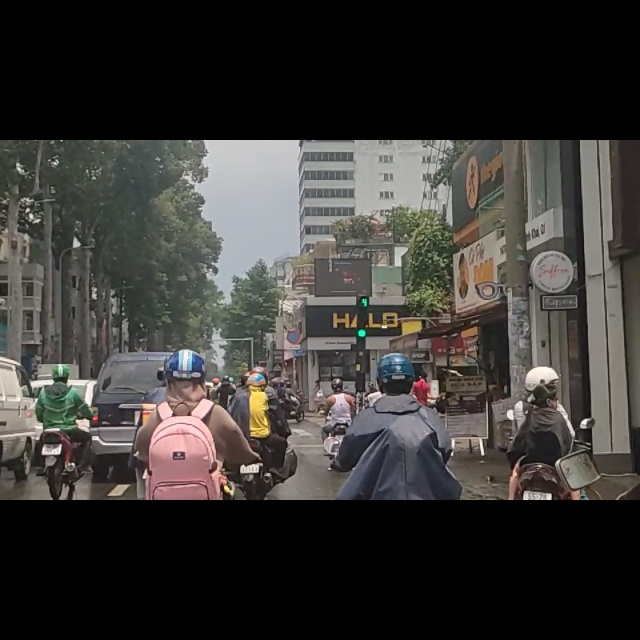bien_cam: (287, 335, 302, 361)
